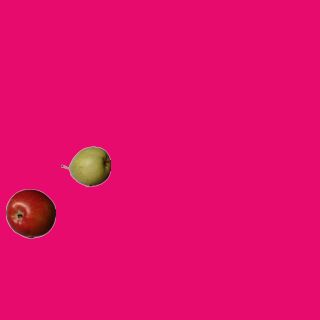Apple Braeburn: (5, 188, 55, 238)
Pear: (60, 141, 110, 191)
